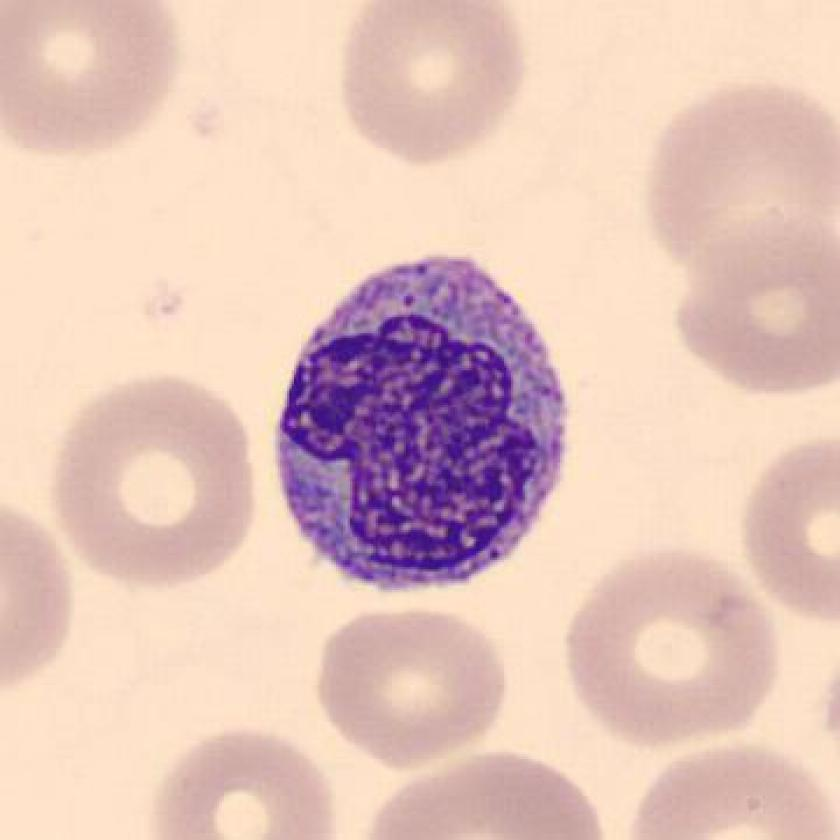monocyte: (248, 239, 589, 612)
